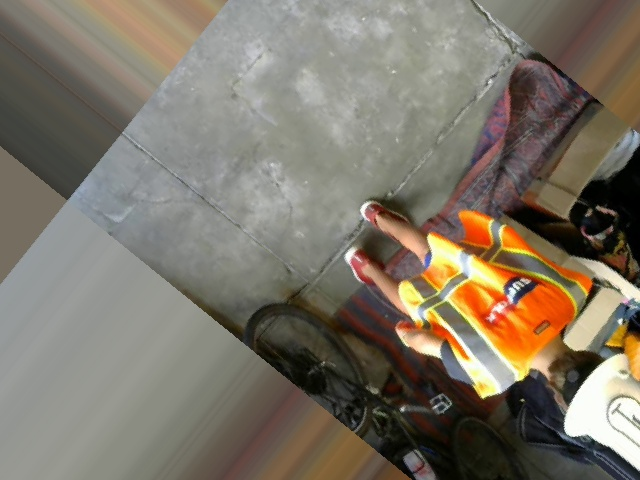one: (598, 388, 639, 441)
